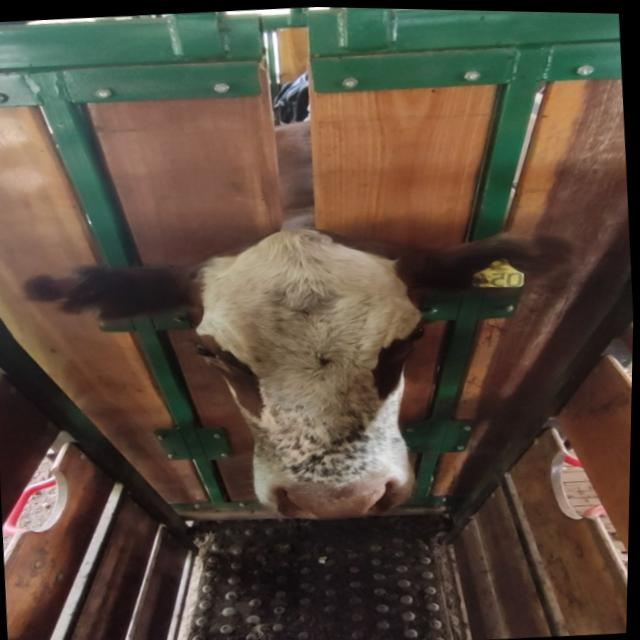cowFace: (186, 215, 448, 528)
